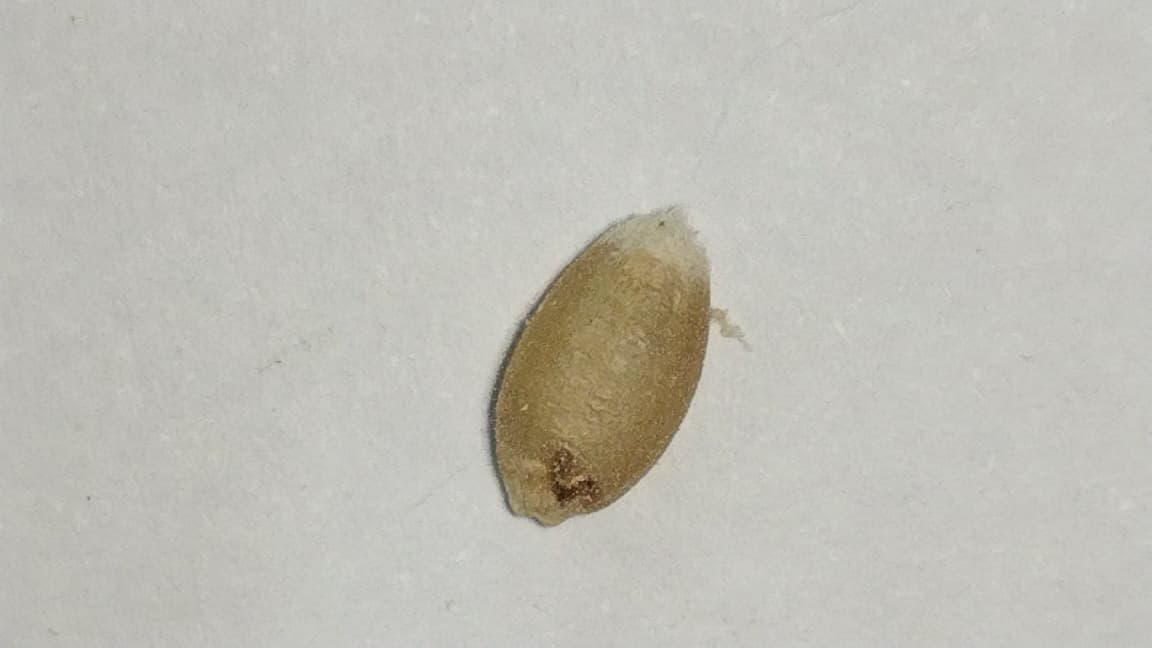damage: (495, 207, 708, 524)
staindamage: (525, 402, 610, 530)
